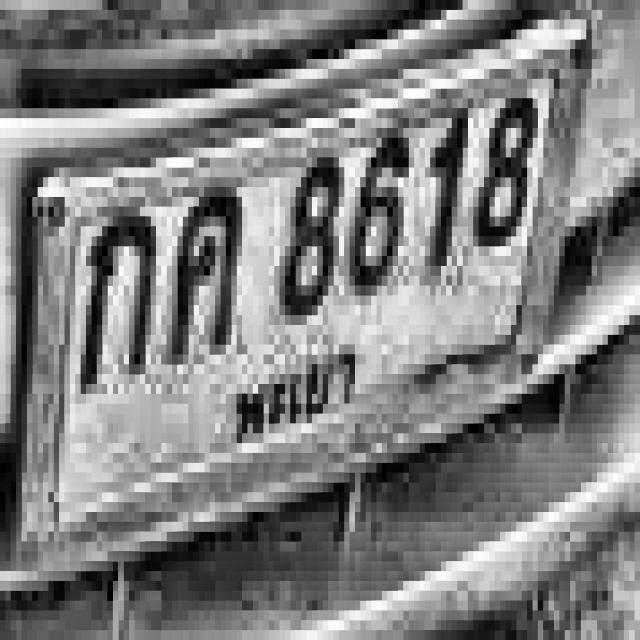license-plate: (17, 24, 584, 588)
